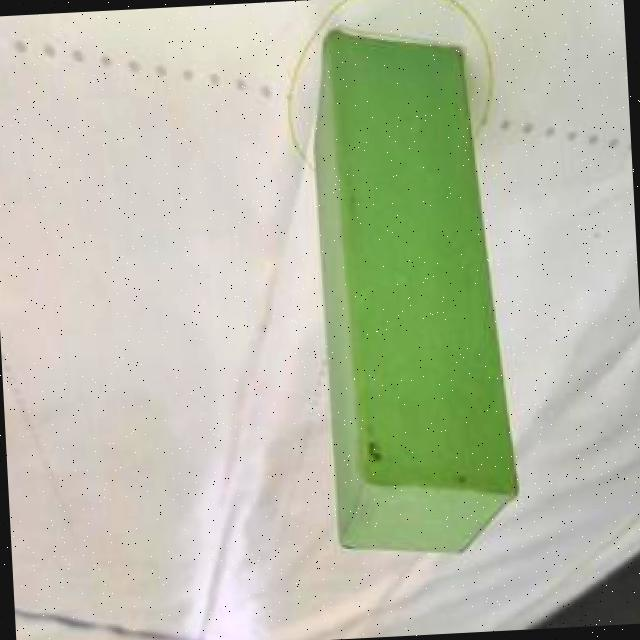greenbox: (314, 23, 520, 561)
